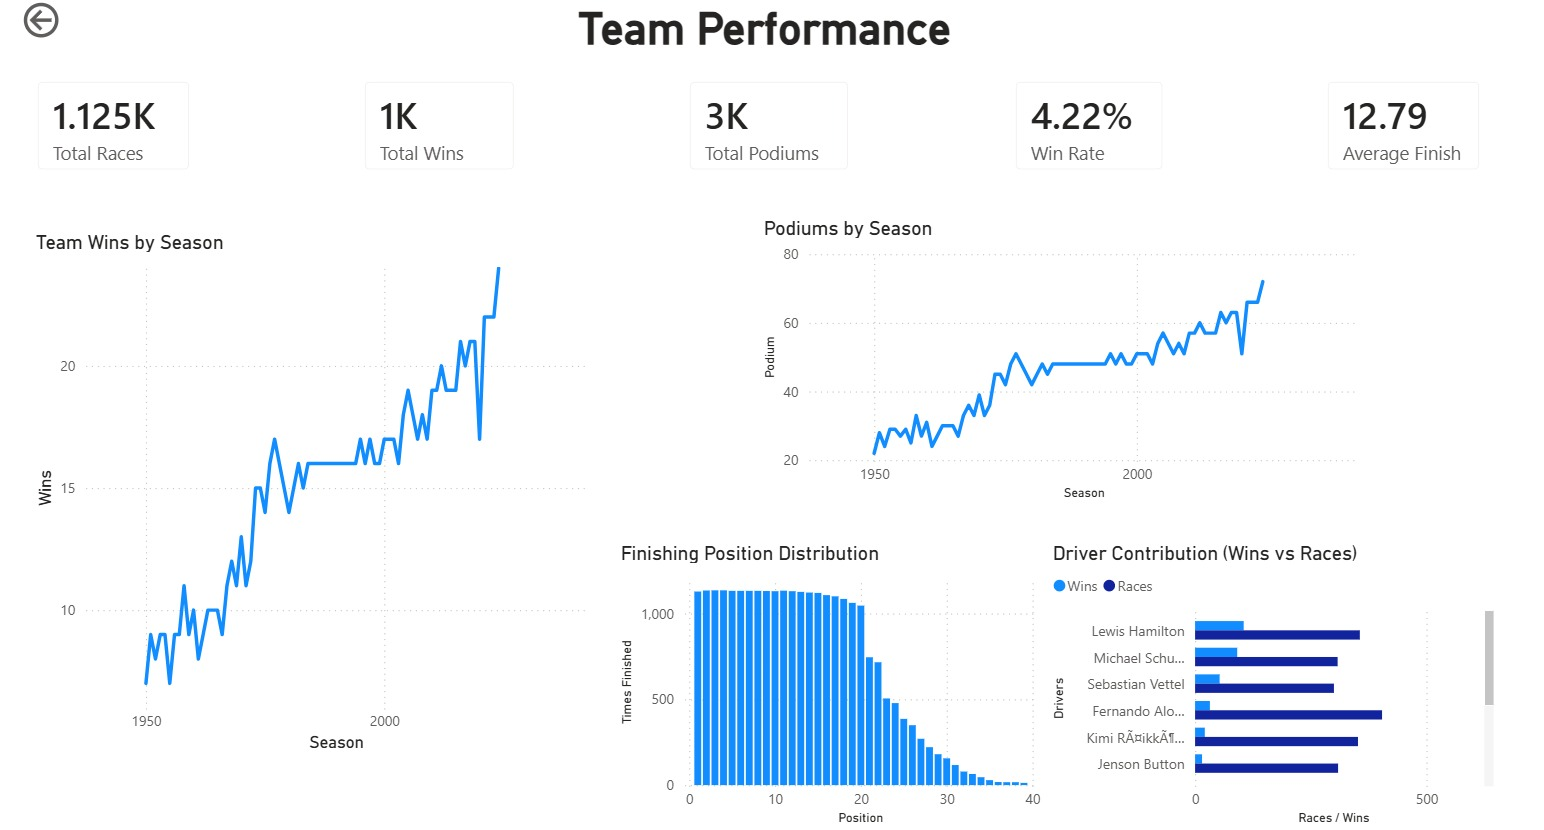

Layout of this report page (visuals, bound fields, positions):
{"tool":"powerbi","page":{"name":"Team Performance","canvas":[1280,720],"ordinal":2},"visuals":[{"type":"actionButton","box":[0,0,100,40],"z":0},{"type":"cardVisual","fields":{"Data":["Count(Race Result Enriched.race_id)"]},"box":[0,56,165,110],"z":1000},{"type":"cardVisual","fields":{"Data":["Sum(Race Result Enriched.win_flag)"]},"box":[282.8,56,163,110],"z":2000},{"type":"cardVisual","fields":{"Data":["Sum(Race Result Enriched.podium_flag)"]},"box":[563.5,56,171,110],"z":3000},{"type":"cardVisual","fields":{"Data":["Race Result Enriched.Team Win Rate"]},"box":[845,56,161,110],"z":4000},{"type":"cardVisual","fields":{"Data":["Avg(Race Result Enriched.positionOrder)"]},"box":[1115,56,165,110],"z":5000},{"type":"textbox","box":[57,0,1177,59],"z":6000},{"type":"lineChart","title":"Team Wins by Season","fields":{"Category":["Race Result Enriched.race_year"],"Y":["Sum(Race Result Enriched.win_flag)"]},"box":[10,201,489,456],"z":7000},{"type":"lineChart","title":"Podiums by Season","fields":{"Category":["Race Result Enriched.race_year"],"Y":["Sum(Race Result Enriched.podium_flag)"]},"box":[640,189,527,250],"z":8000},{"type":"clusteredColumnChart","title":"Finishing Position Distribution","fields":{"Category":["Race Result Enriched.positionOrder"],"Y":["CountNonNull(Race Result Enriched.positionOrder)"]},"box":[516,470,373,250],"z":9000},{"type":"clusteredBarChart","title":"Driver Contribution (Wins vs Races)","fields":{"Category":["Race Result Enriched.driver_name"],"Y":["Sum(Race Result Enriched.win_flag)","CountNonNull(Race Result Enriched.race_id)"]},"box":[889,470,391,250],"z":10000}]}

Visuals, with their boxes on the page's 1280x720 design canvas (x1, y1, x2, y2). These are canvas units, not pixel positions in the 1544x830 screenshot, which may show the page scaled, cropped or inside an application window:
actionButton: pyautogui.locateOnScreen(0, 0, 100, 40)
cardVisual - Count(Race Result Enriched.race_id): pyautogui.locateOnScreen(0, 56, 165, 166)
cardVisual - Sum(Race Result Enriched.win_flag): pyautogui.locateOnScreen(283, 56, 446, 166)
cardVisual - Sum(Race Result Enriched.podium_flag): pyautogui.locateOnScreen(564, 56, 734, 166)
cardVisual - Race Result Enriched.Team Win Rate: pyautogui.locateOnScreen(845, 56, 1006, 166)
cardVisual - Avg(Race Result Enriched.positionOrder): pyautogui.locateOnScreen(1115, 56, 1280, 166)
textbox: pyautogui.locateOnScreen(57, 0, 1234, 59)
"Team Wins by Season" lineChart: pyautogui.locateOnScreen(10, 201, 499, 657)
"Podiums by Season" lineChart: pyautogui.locateOnScreen(640, 189, 1167, 439)
"Finishing Position Distribution" clusteredColumnChart: pyautogui.locateOnScreen(516, 470, 889, 720)
"Driver Contribution (Wins vs Races)" clusteredBarChart: pyautogui.locateOnScreen(889, 470, 1280, 720)
